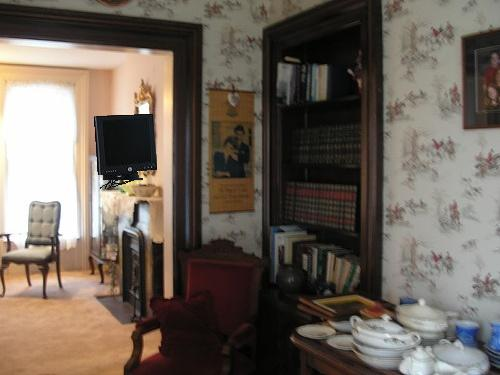tampered: (95, 115, 157, 189)
